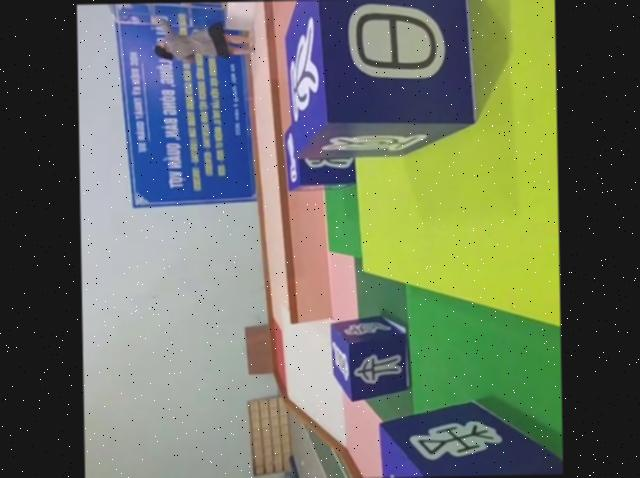R2 Fake Blue: (277, 0, 475, 159), (330, 313, 413, 401)
R2 Real Blue: (369, 399, 563, 477)
